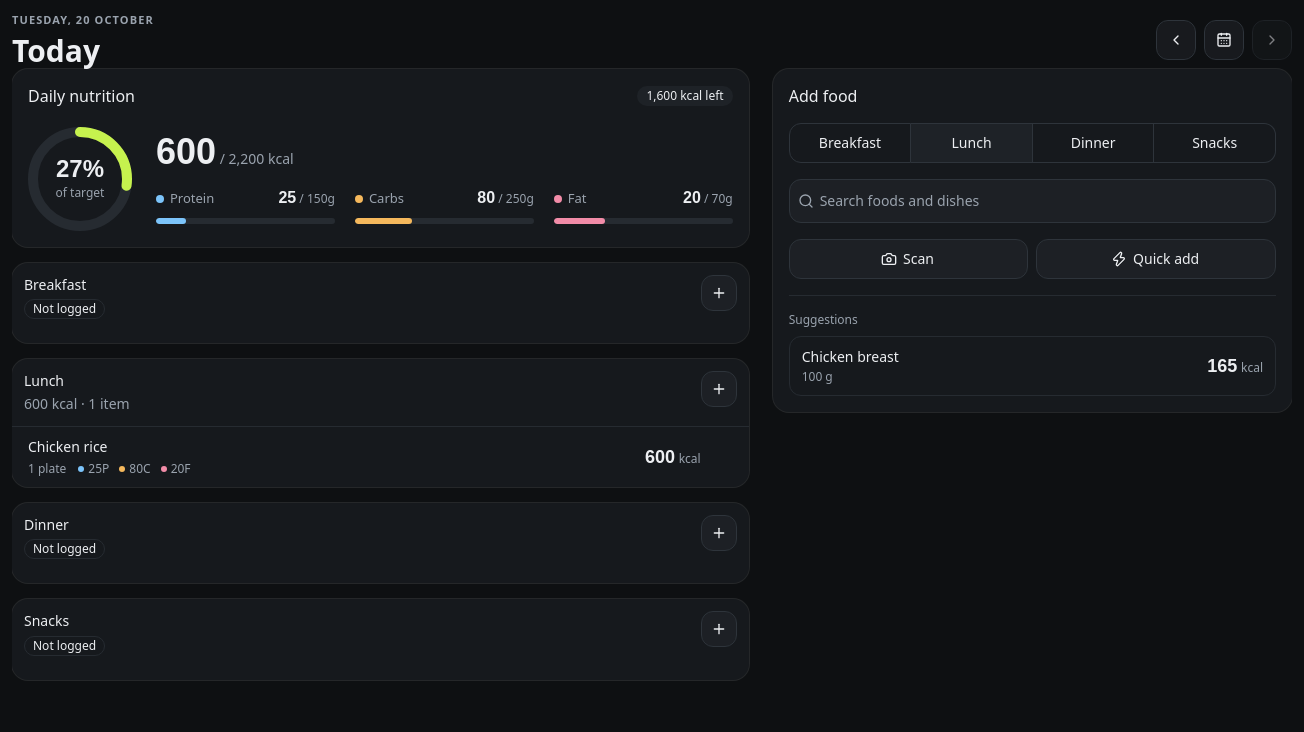
Scenario: FoodPage › shows an error when the search fails
The width and height of the screenshot is (1304, 732).
Expected: the text "Chicken rice" is shown, 28,437 -> 108,456
Type "laksa" into the search field labelled "Search foods".
click(1044, 200); type("laksa")  # box 814,184 -> 1275,216
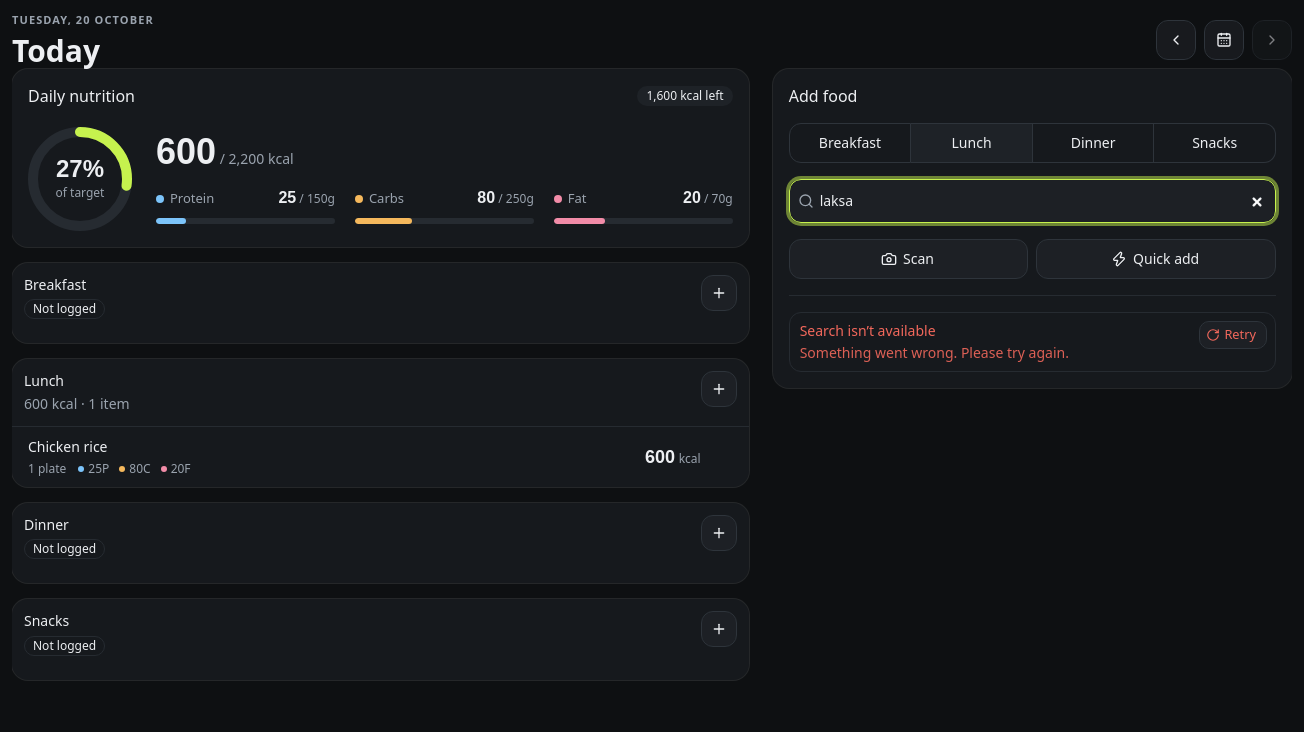
Expected: the text "Search isn’t available" is shown, 800,320 -> 936,340
